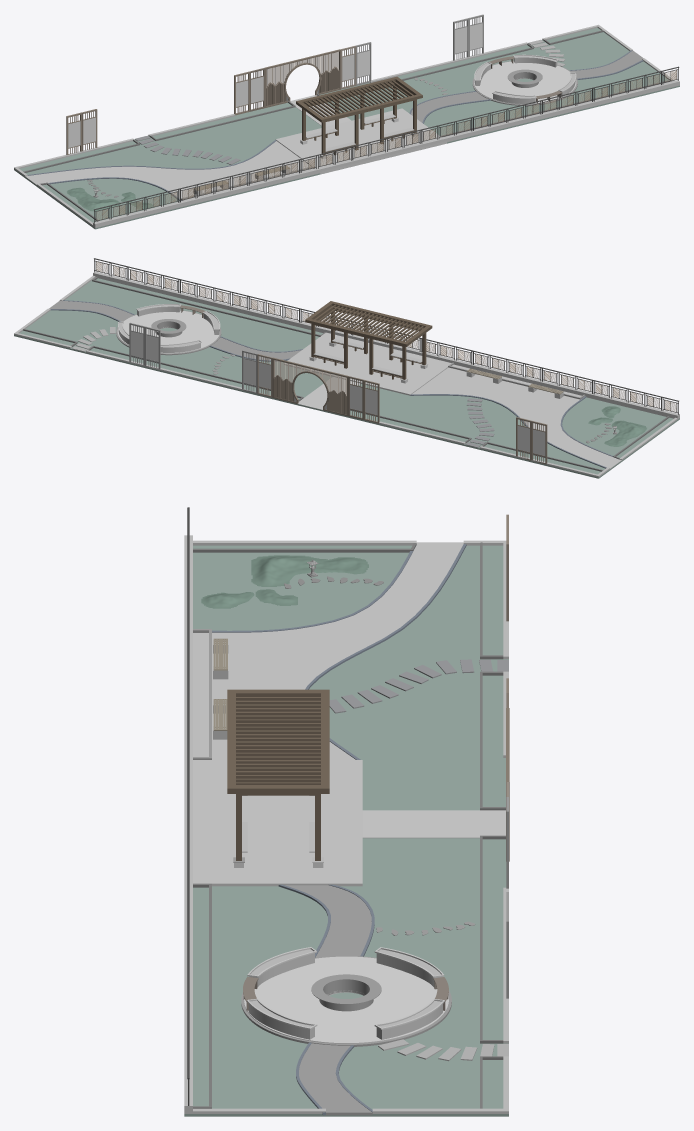
File: 长花园哦.fbx
3 renders of one model, top to bottom at view 1: azimuth 30°, elevation 25°; view 2: azimuth 150°, elevation 25°; view 3: azimuth 270°, elevation 25°, orthographic. The views are drawn at different scales.
Parts seen in each view (by area): view 1: Rectangle627; view 2: Rectangle627; view 3: Rectangle627.
Part boxes in pixels (x1=…): Rectangle627: x1=14, y1=14, x2=679, y2=229; Rectangle627: x1=14, y1=258, x2=679, y2=478; Rectangle627: x1=184, y1=507, x2=509, y2=1116.
Bounding box in the file's own units: 4618 × 330 × 1112.
